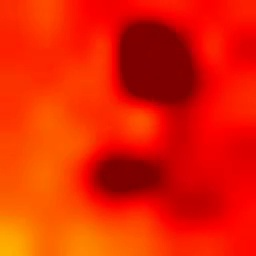person: (97, 138, 224, 223)
